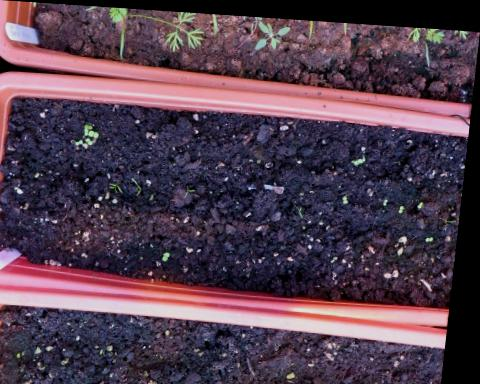weed: (424, 226, 439, 236), (164, 247, 176, 258), (343, 188, 354, 200), (418, 192, 428, 203), (383, 190, 392, 202), (400, 197, 409, 208)
